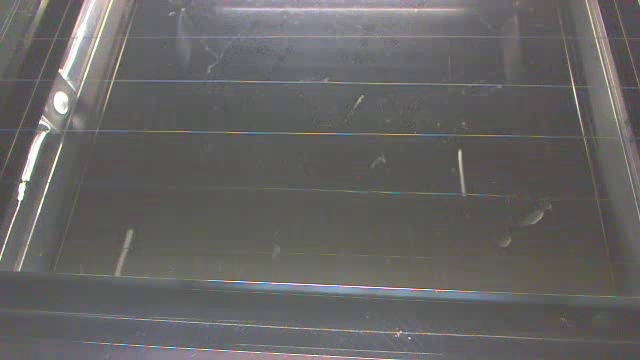Alfa: (111, 220, 139, 279), (451, 143, 468, 198)
